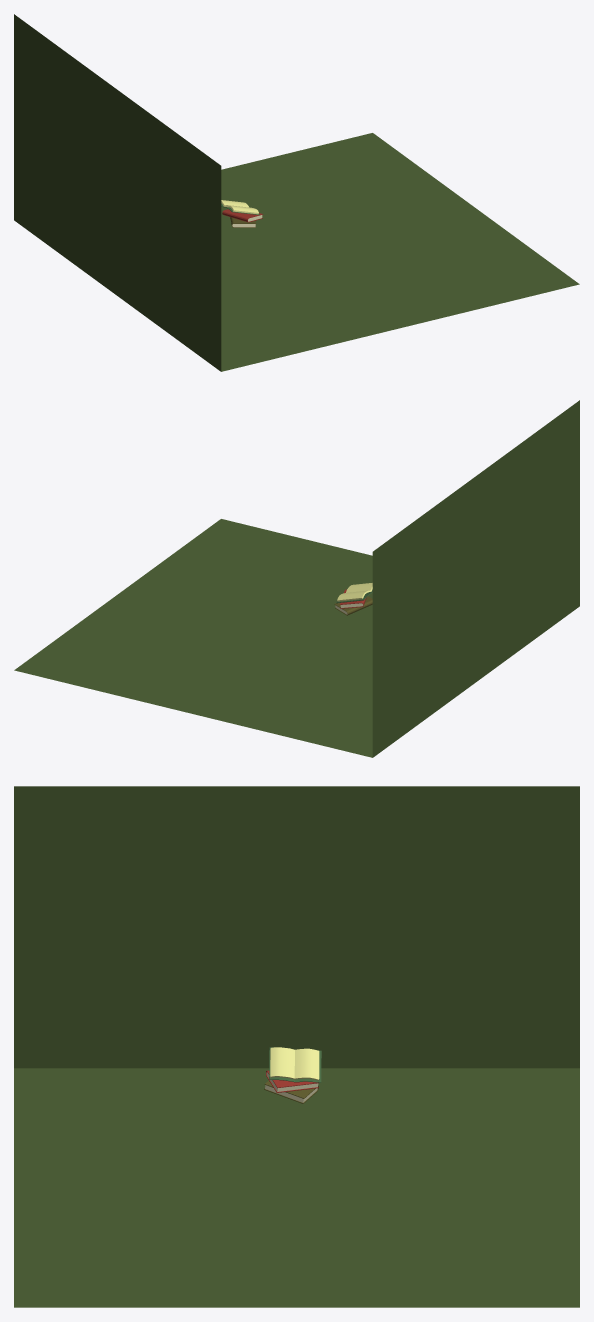
Rendered from materi.gltf.
The picture shows the model from 3 angles, top to bottom: view 1: azimuth 30°, elevation 25°; view 2: azimuth 150°, elevation 25°; view 3: azimuth 270°, elevation 25°; orthographic projection. The views are drawn at different scales.
Parts seen in each view (by area): view 1: bg, object; view 2: bg, object; view 3: bg, object.
Part boxes in pixels (x1,y1,x2,y2): bg: (14, 14, 579, 371); object: (221, 200, 263, 227); bg: (14, 400, 579, 757); object: (334, 583, 372, 615); bg: (14, 786, 579, 1307); object: (264, 1047, 321, 1103).
Bounding box in the file's own units: 8 × 4.39 × 8.
